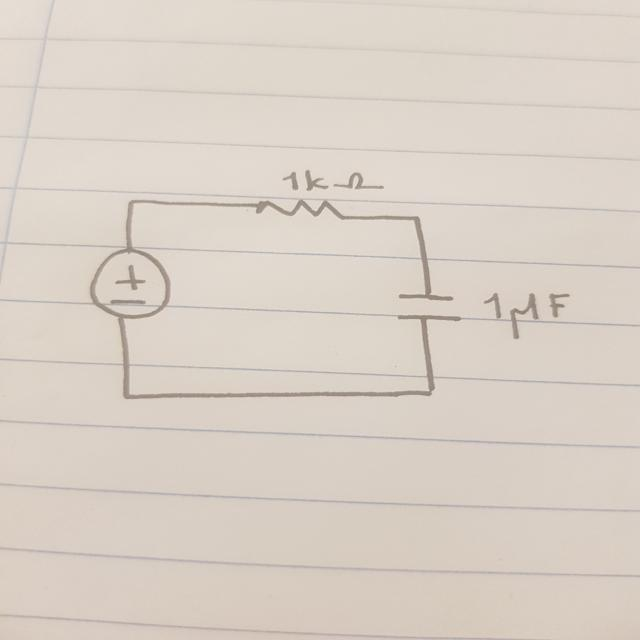capacitor: (394, 290, 462, 324)
junction: (417, 380, 437, 400), (405, 210, 424, 228), (121, 195, 141, 211), (118, 387, 136, 404)
resistor: (252, 191, 346, 223)
source: (85, 249, 175, 323)
text: (482, 288, 572, 339), (281, 170, 385, 194)
